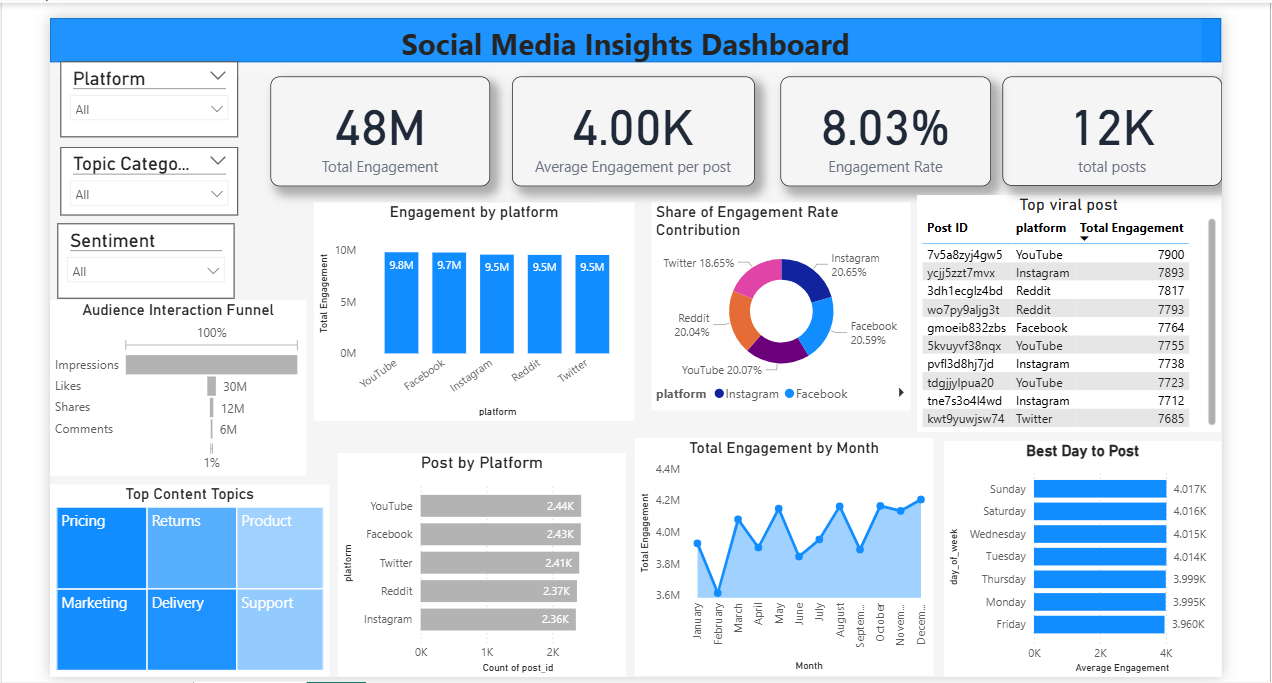

The dashboard page shown, as its layout file describes it:
{"tool":"powerbi","page":{"name":"Page 1","canvas":[1280,720],"ordinal":0},"visuals":[{"type":"shape","box":[0,0,1280,48.3],"z":0},{"type":"card","fields":{"Values":["social_media_real social_posts.Total Engagement"]},"box":[241.7,63.3,240,120],"z":1000},{"type":"card","fields":{"Values":["social_media_real social_posts.total posts"]},"box":[361.1,205.2,237,119.3],"z":2000},{"type":"card","fields":{"Values":["social_media_real social_posts.Average Engagement"]},"box":[505,63.3,265,120],"z":3000},{"type":"card","fields":{"Values":["social_media_real social_posts.Engagement Rate"]},"box":[798.3,63.3,230,120],"z":4000},{"type":"clusteredColumnChart","title":" Engagement by platform","fields":{"Category":["social_media_real social_posts.platform"],"Y":["social_media_real social_posts.Total Engagement"]},"box":[287.9,202,351.5,259.3],"z":5000},{"type":"clusteredBarChart","title":" Post  by Platform","fields":{"Category":["social_media_real social_posts.platform"],"Y":["CountNonNull(social_media_real social_posts.post_id)"]},"box":[310.2,485.1,327.7,233.8],"z":6000},{"type":"donutChart","title":"Share of Engagement Rate Contribution","fields":{"Category":["social_media_real social_posts.platform"],"Y":["Avg(social_media_real social_posts.engagement_rate)"]},"box":[656.9,208.4,283.1,227.5],"z":7000},{"type":"clusteredBarChart","title":"Best Day to Post","fields":{"Category":["social_media_real social_posts.day_of_week"],"Y":["social_media_real social_posts.Average Engagement"]},"box":[976.7,461.7,303.3,258.3],"z":8000},{"type":"treemap","title":"Top Content Topics","fields":{"Group":["social_media_real social_posts.topic_category"],"Values":["social_media_real social_posts.Total Engagement"]},"box":[0,510.6,310.2,210],"z":9000},{"type":"tableEx","title":"Top viral post ","fields":{"Values":["social_media_real social_posts.post_id","social_media_real social_posts.platform","social_media_real social_posts.Total Engagement"]},"box":[948.3,193.3,331.7,258.3],"z":10000},{"type":"slicer","fields":{"Values":["social_media_real social_posts.platform"]},"box":[11.1,47.7,194.1,82.7],"z":11000},{"type":"slicer","fields":{"Values":["social_media_real social_posts.sentiment_label"]},"box":[8.3,225,193.3,81.7],"z":12000},{"type":"slicer","fields":{"Values":["social_media_real social_posts.topic_category"]},"box":[11.1,141.6,194.1,74.8],"z":13000},{"type":"textbox","box":[0,0,1258.3,63.3],"z":14000},{"type":"funnel","title":"Audience Interaction Funnel","fields":{"Y":["Sum(social_media_real social_posts.impressions)","Sum(social_media_real social_posts.likes)","Sum(social_media_real social_posts.shares)","Sum(social_media_real social_posts.comments)"]},"box":[0,308.3,280,191.7],"z":15000},{"type":"areaChart","fields":{"Category":["social_media_real social_posts.post_date.Variation.Date Hierarchy.Month"],"Y":["social_media_real social_posts.Total Engagement"]},"box":[639.4,451.7,326.1,268.8],"z":16000},{"type":"card","fields":{"Values":["social_media_real social_posts.total posts"]},"box":[1040.3,63.6,240.2,119.3],"z":17000}]}

Visuals, with their boxes on the page's 1280x720 design canvas (x1, y1, x2, y2). These are canvas units, not pixel positions in the 1272x683 screenshot, which may show the page scaled, cropped or inside an application window:
shape: x1=0, y1=0, x2=1280, y2=48
card - social_media_real social_posts.Total Engagement: x1=242, y1=63, x2=482, y2=183
card - social_media_real social_posts.total posts: x1=361, y1=205, x2=598, y2=324
card - social_media_real social_posts.Average Engagement: x1=505, y1=63, x2=770, y2=183
card - social_media_real social_posts.Engagement Rate: x1=798, y1=63, x2=1028, y2=183
" Engagement by platform" clusteredColumnChart: x1=288, y1=202, x2=639, y2=461
" Post  by Platform" clusteredBarChart: x1=310, y1=485, x2=638, y2=719
"Share of Engagement Rate Contribution" donutChart: x1=657, y1=208, x2=940, y2=436
"Best Day to Post" clusteredBarChart: x1=977, y1=462, x2=1280, y2=720
"Top Content Topics" treemap: x1=0, y1=511, x2=310, y2=721
"Top viral post " tableEx: x1=948, y1=193, x2=1280, y2=452
slicer - social_media_real social_posts.platform: x1=11, y1=48, x2=205, y2=130
slicer - social_media_real social_posts.sentiment_label: x1=8, y1=225, x2=202, y2=307
slicer - social_media_real social_posts.topic_category: x1=11, y1=142, x2=205, y2=216
textbox: x1=0, y1=0, x2=1258, y2=63
"Audience Interaction Funnel" funnel: x1=0, y1=308, x2=280, y2=500
areaChart - social_media_real social_posts.post_date.Variation.Date Hierarchy.Month x social_media_real social_posts.Total Engagement: x1=639, y1=452, x2=966, y2=720
card - social_media_real social_posts.total posts: x1=1040, y1=64, x2=1280, y2=183
